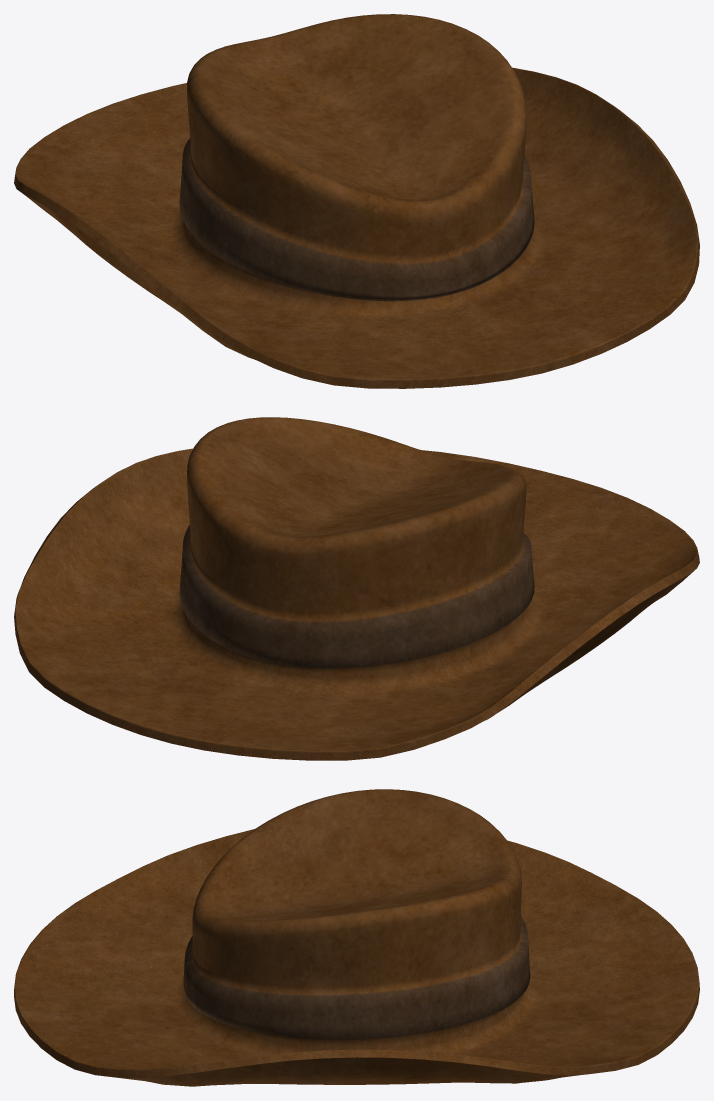
Rendered from cowboyHat.glb.
3 renders of one model, top to bottom at view 1: azimuth 30°, elevation 25°; view 2: azimuth 150°, elevation 25°; view 3: azimuth 270°, elevation 25°, orthographic. The views are drawn at different scales.
Visible parts, largest first — view 1: hat; view 2: hat; view 3: hat.
Boxes of the visible parts, box(x1,y1,x2,y2) form: hat: box(14, 14, 699, 388); hat: box(14, 417, 699, 760); hat: box(14, 789, 699, 1086).
Size of the model in its own units: 0.5518 by 0.1696 by 0.6724.
Materials: 1 (1 with a texture image).
